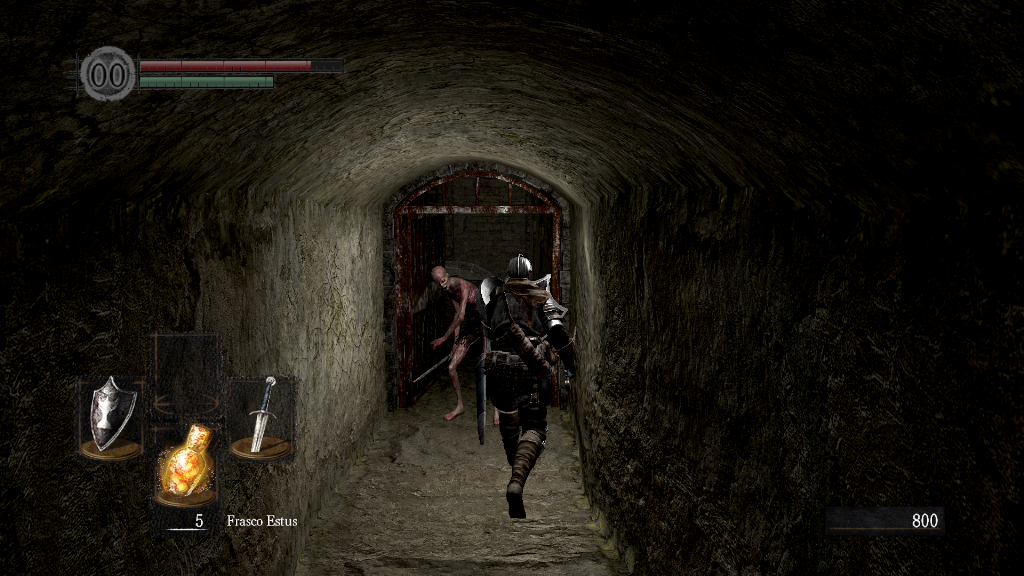health: (138, 58, 343, 71)
hollow: (428, 264, 484, 418)
humanity: (80, 45, 136, 102)
player: (477, 254, 579, 520)
souls: (825, 506, 945, 536)
stamina: (138, 74, 274, 88)
